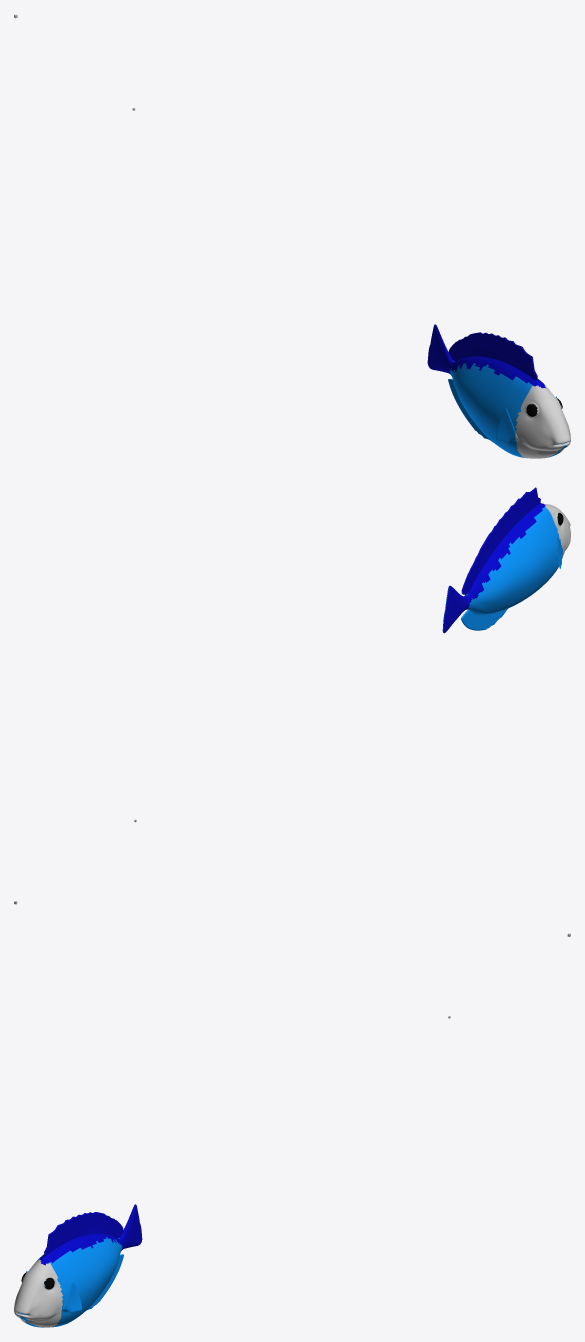
Rendered from yuyu.obj.
3 renders of one model, top to bottom at view 1: azimuth 30°, elevation 25°; view 2: azimuth 150°, elevation 25°; view 3: azimuth 330°, elevation 25°, orthographic. The views are drawn at different scales.
Parts seen in each view (by area): view 1: 13006_Blue_Tang_v1_l3; view 2: 13006_Blue_Tang_v1_l3; view 3: 13006_Blue_Tang_v1_l3.
Boxes of the visible parts, box(x1,y1,x2,y2) form: 13006_Blue_Tang_v1_l3: box(427, 324, 570, 458); 13006_Blue_Tang_v1_l3: box(442, 487, 570, 633); 13006_Blue_Tang_v1_l3: box(14, 1204, 142, 1327).
Bounding box in the file's own units: 68.73 × 125 × 1101.
